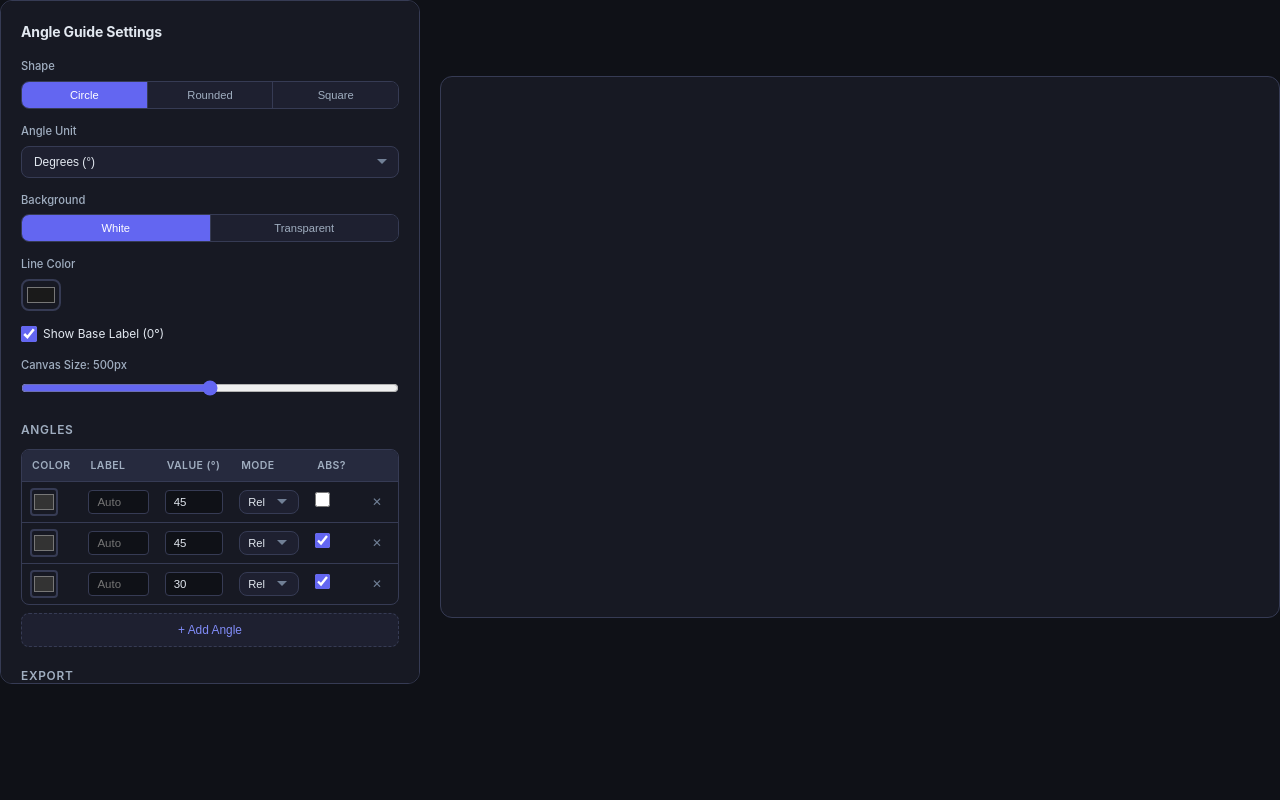
Test case: AngleGuide › removes an angle
The width and height of the screenshot is (1280, 800).
Step 1. Click the 1st button titled "Remove" → (377, 502), box [364,490,390,516]
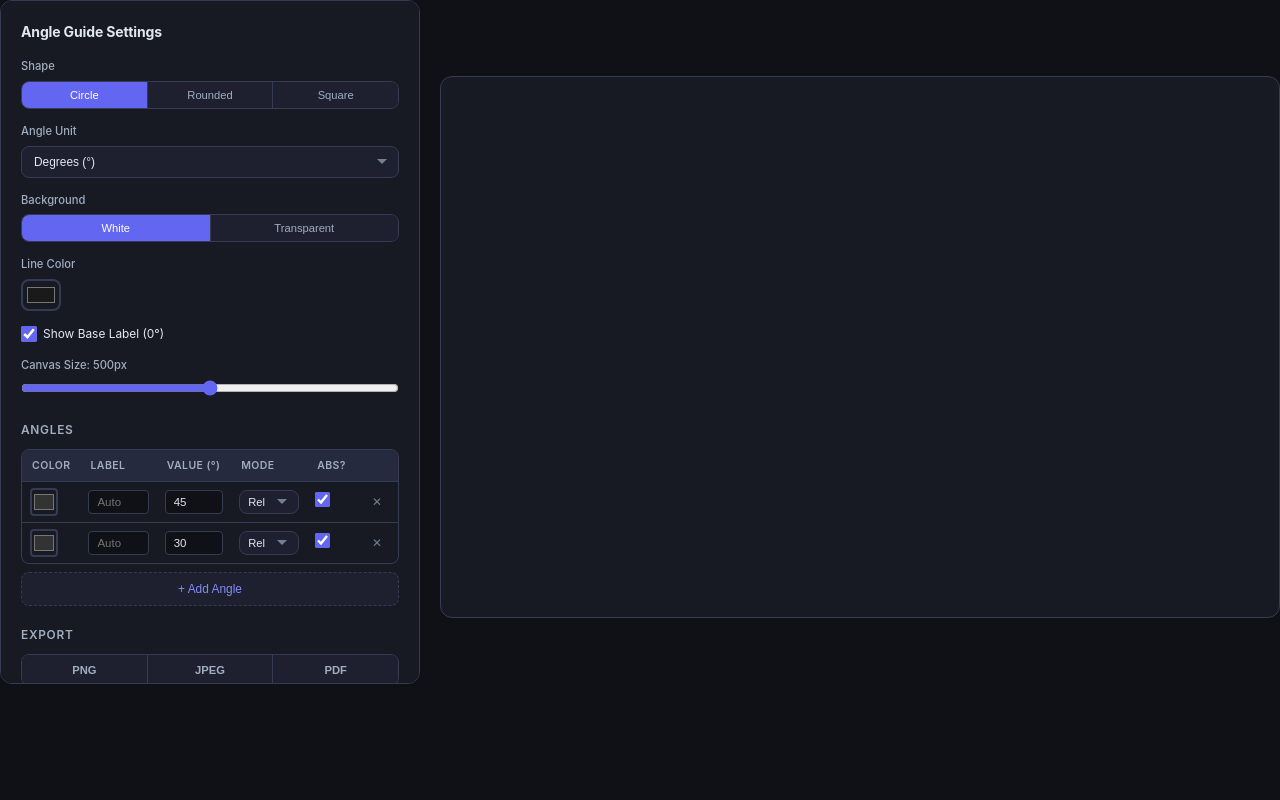
expect the number of buttons titled "Remove" is 2: met, box [364,490,390,516]; [364,530,390,556]
